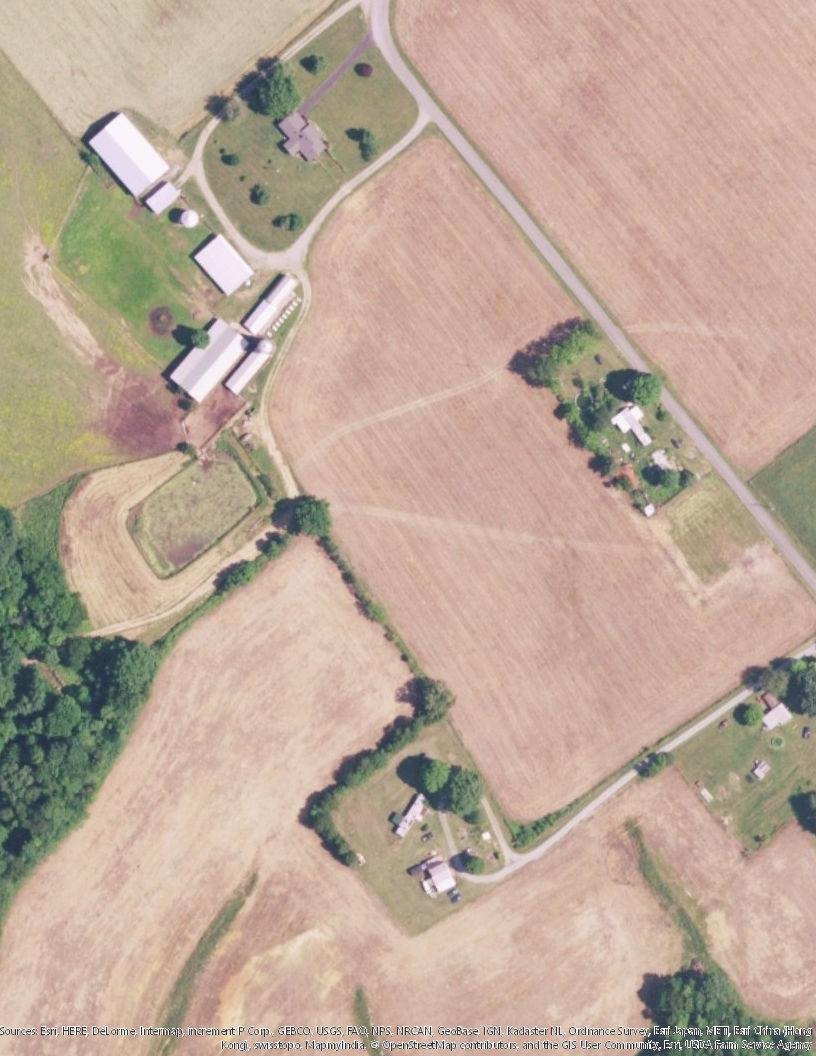cafo: (84, 103, 186, 214), (159, 313, 284, 403), (238, 264, 308, 334), (195, 228, 258, 298)
